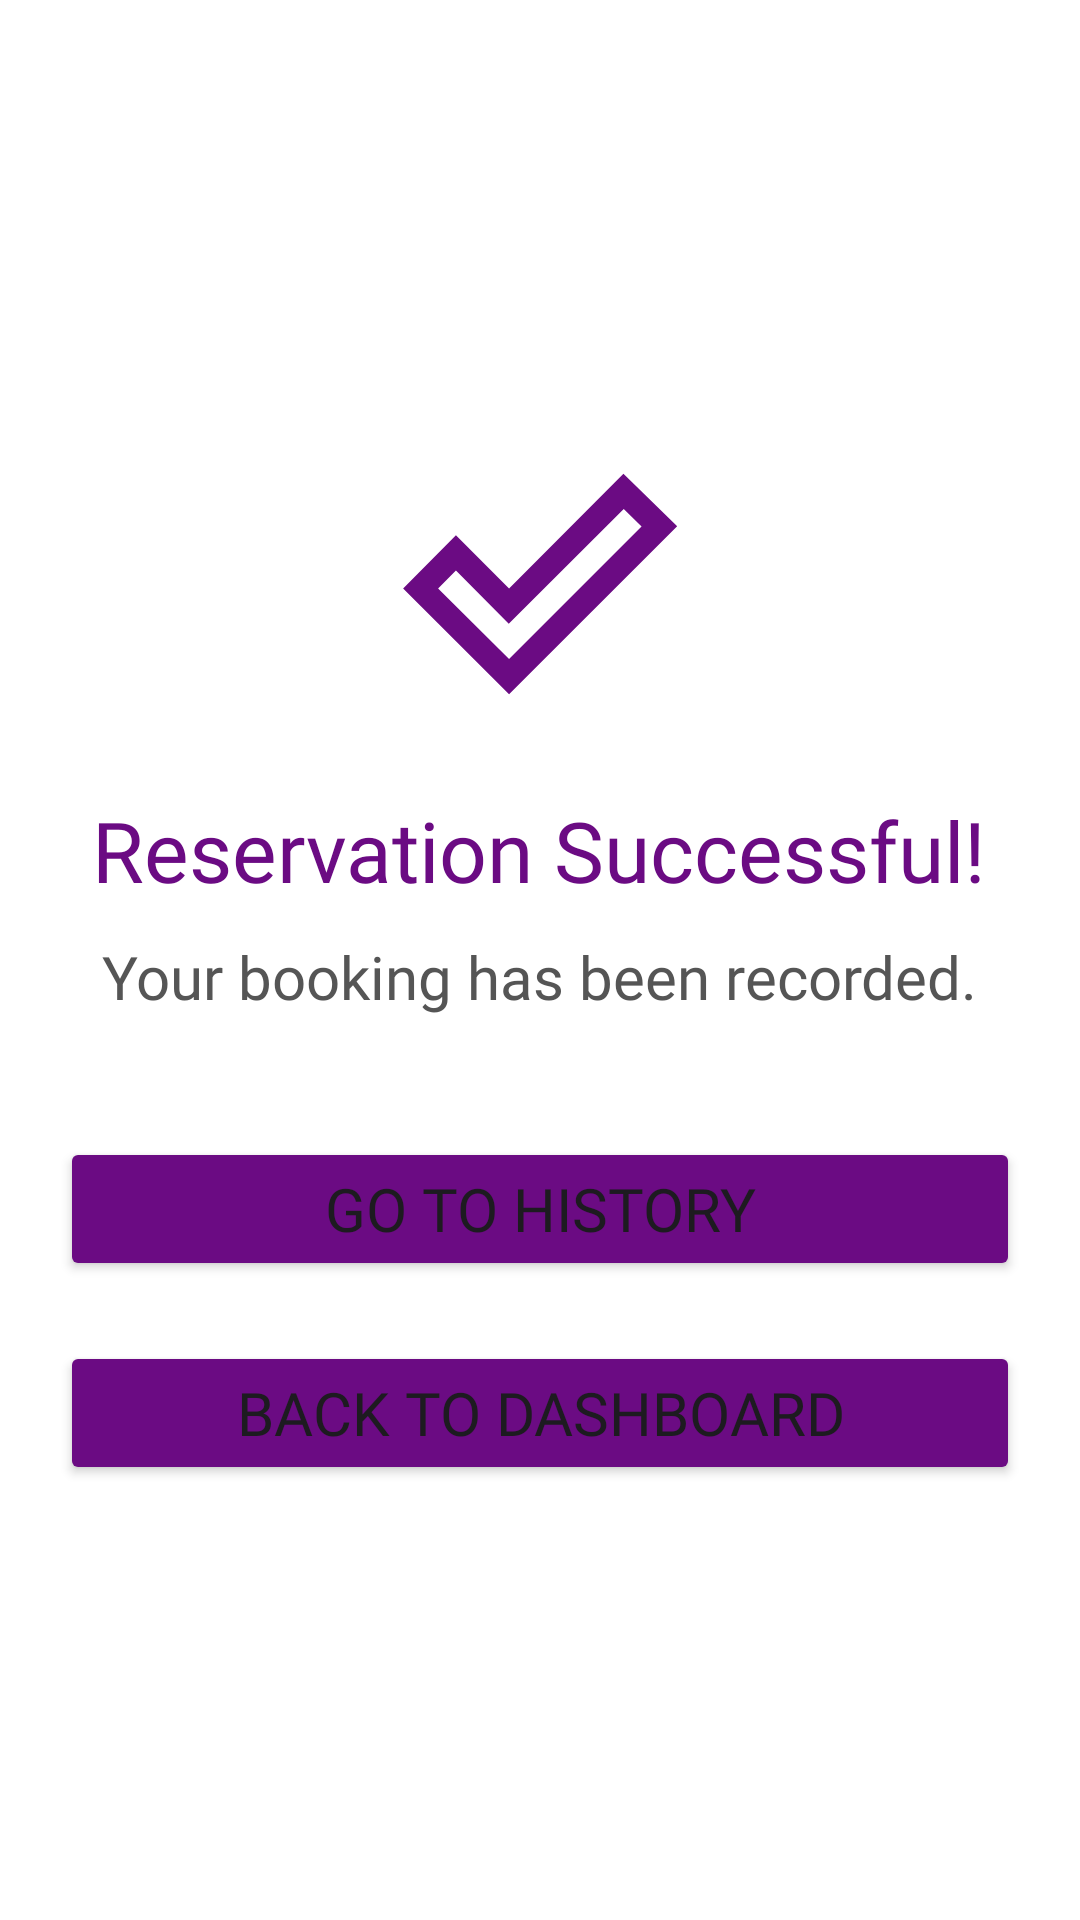

Where icons sit on this 1080px x 1920px app screen, as (x1, y1, x2, y2):
done: (403, 474, 677, 694)
